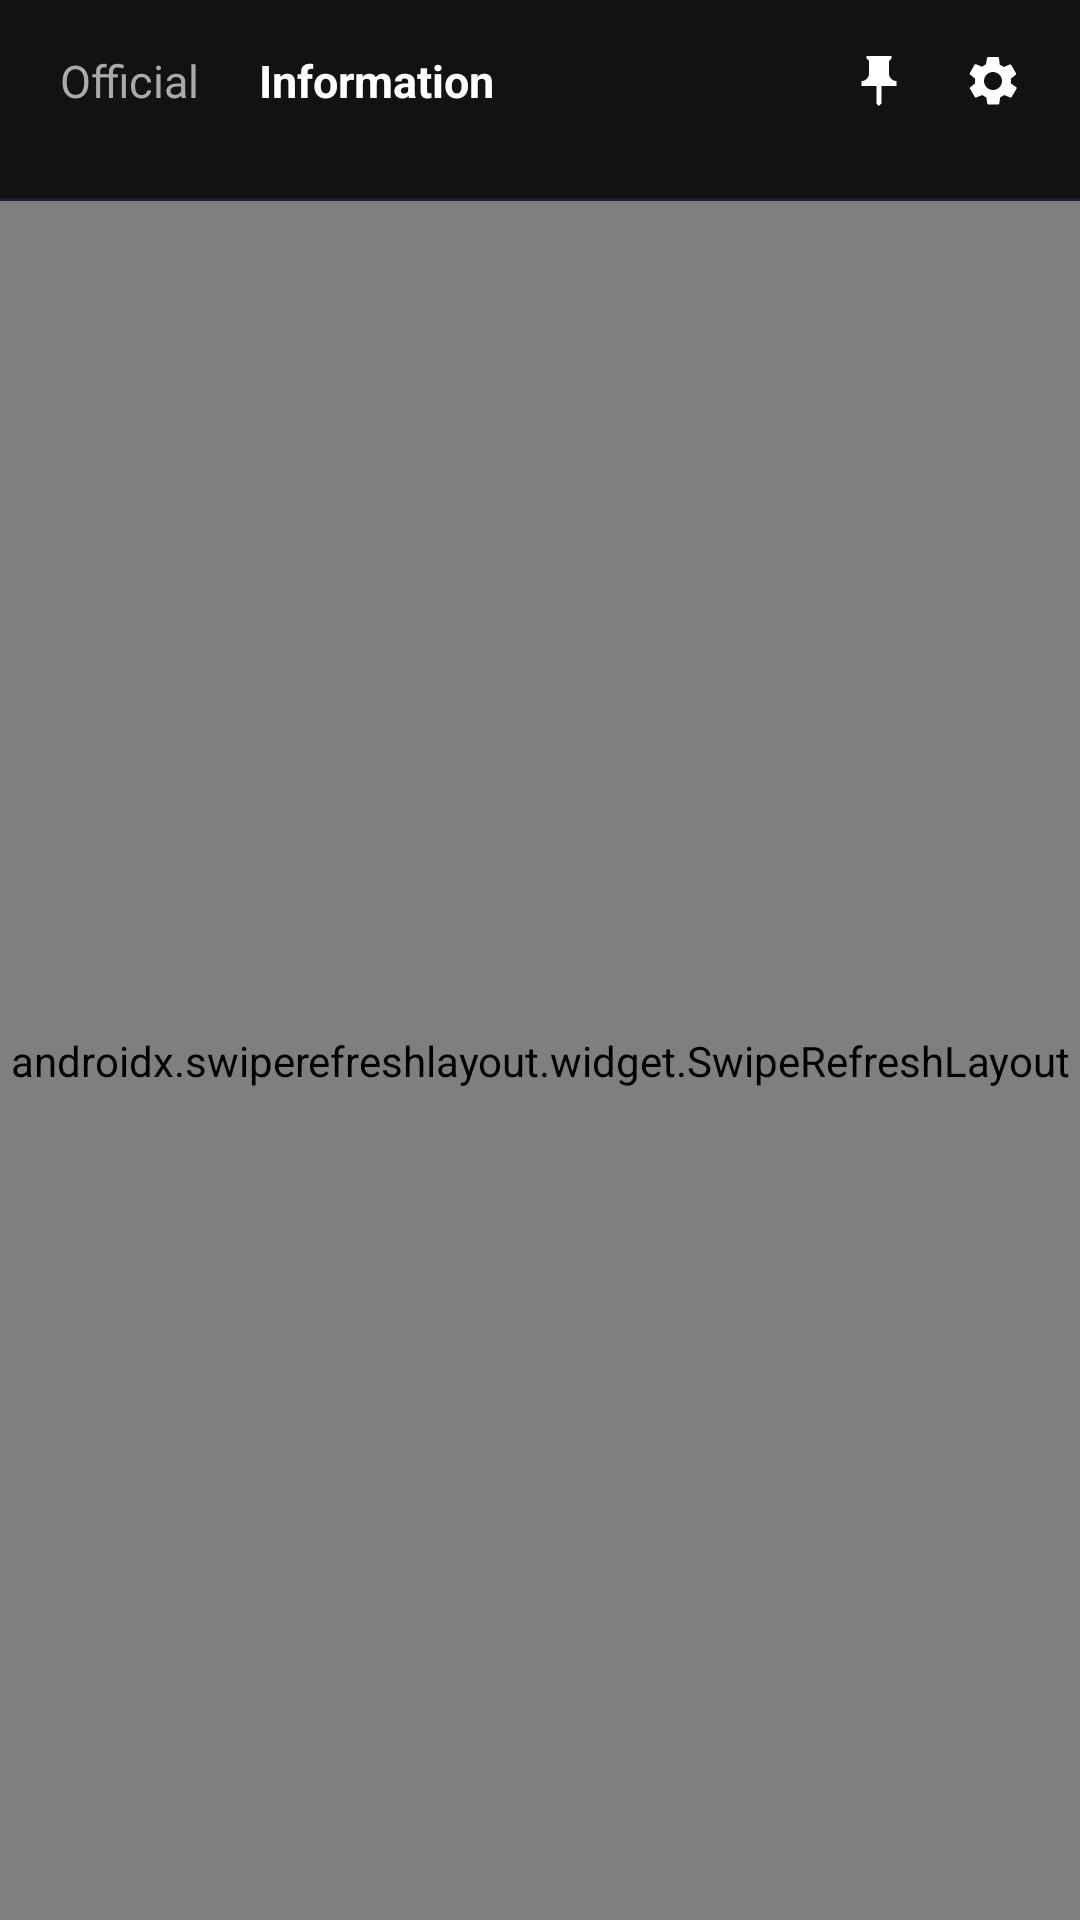

Point at icon controls on the screen. Image size 1080 x 1920, points as (x,y).
Pin: (879,81)
Settings: (993,81)
